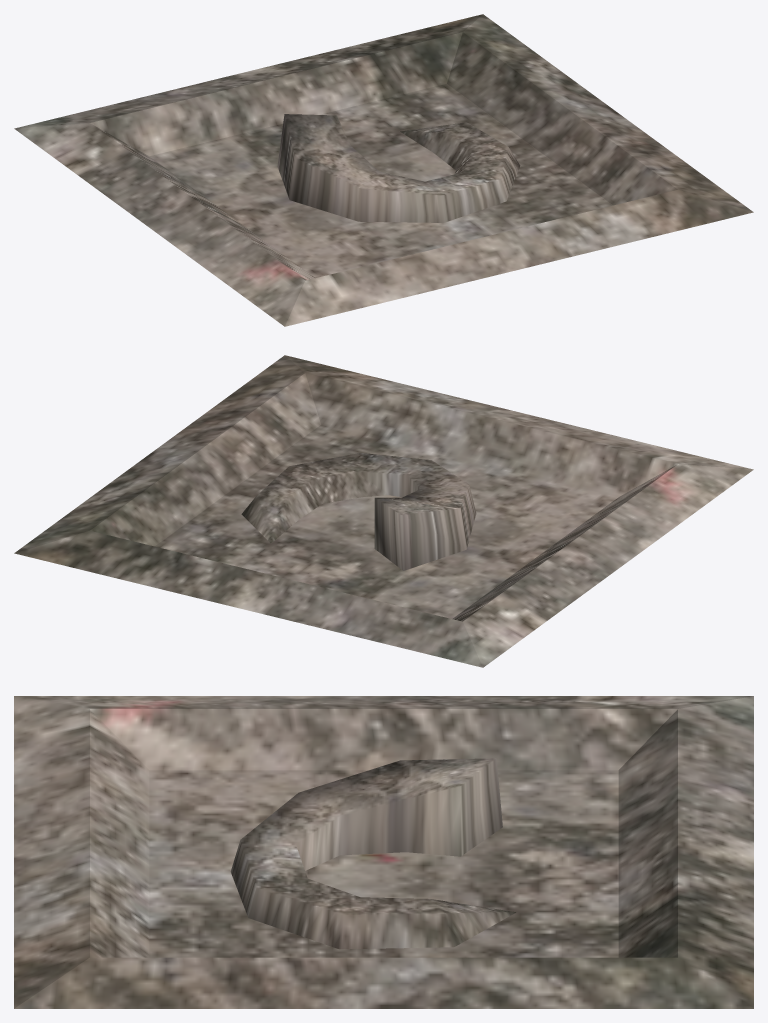
File: sandbox_test.fbx
The picture shows the model from 3 angles, top to bottom: view 1: azimuth 30°, elevation 25°; view 2: azimuth 150°, elevation 25°; view 3: azimuth 270°, elevation 25°; orthographic projection. The views are drawn at different scales.
Visible parts, largest first — view 1: Level; view 2: Level; view 3: Level.
Part boxes in pixels (bbox=[...]): Level: bbox=[14, 14, 753, 326]; Level: bbox=[14, 355, 753, 667]; Level: bbox=[14, 696, 753, 1008].
Bounding box in the file's own units: 60.69 × 8.05 × 60.69.
2 materials, 2 textured.
